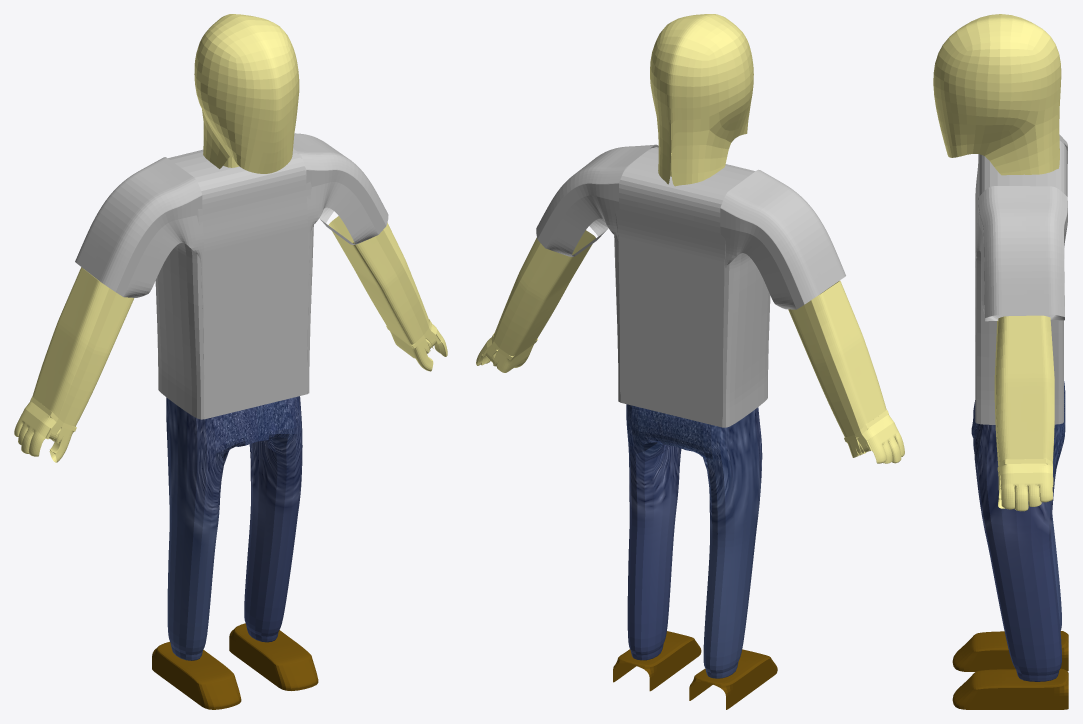
Rendered from Lärare low poly.fbx.
The picture shows the model from 3 angles, left to right: view 1: azimuth 30°, elevation 25°; view 2: azimuth 150°, elevation 25°; view 3: azimuth 270°, elevation 25°; orthographic projection.
Visible parts, largest first — view 1: Body, Legs, Cube.000, Arms.001, Foot right, Foot left, hands; view 2: Body, Legs, Cube.000, Arms.001, hands, Foot right, Foot left; view 3: Cube.000, Body, Legs, Arms.001, Foot left, hands, Foot right.
Part boxes in pixels (<box>): Body: <box>75,133,388,419</box>; Legs: <box>166,396,302,660</box>; Cube.000: <box>194,14,299,173</box>; Arms.001: <box>32,216,429,426</box>; Foot right: <box>152,641,241,709</box>; Foot left: <box>229,623,318,690</box>; hands: <box>14,320,447,462</box>; Body: <box>536,144,845,427</box>; Legs: <box>626,404,762,678</box>; Cube.000: <box>650,14,753,186</box>; Arms.001: <box>493,230,886,437</box>; hands: <box>476,334,904,463</box>; Foot right: <box>689,649,777,709</box>; Foot left: <box>613,631,701,691</box>; Cube.000: <box>933,14,1061,175</box>; Body: <box>975,134,1067,424</box>; Legs: <box>971,381,1065,681</box>; Arms.001: <box>994,315,1054,466</box>; Foot left: <box>952,668,1068,709</box>; hands: <box>997,459,1053,511</box>; Foot right: <box>952,631,1068,671</box>.
Size of the model in its own units: 305 by 459 by 84.64.
